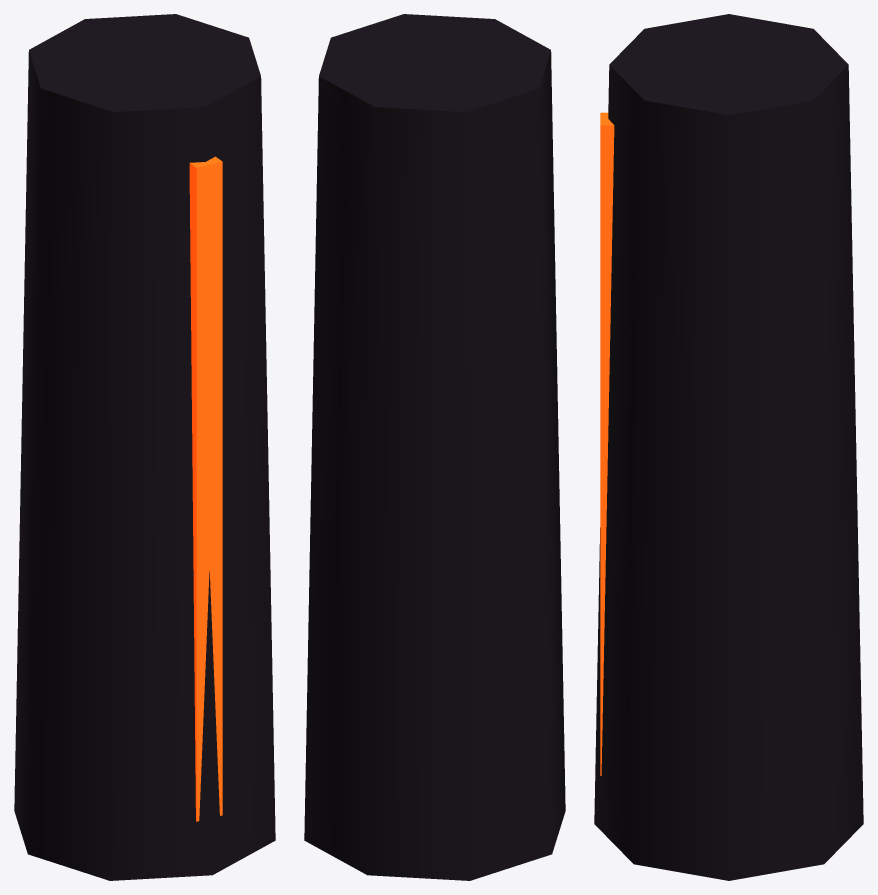
The model's file is obsidian_pillar.glb.
3 renders of one model, left to right at view 1: azimuth 30°, elevation 25°; view 2: azimuth 150°, elevation 25°; view 3: azimuth 270°, elevation 25°, orthographic.
Size of the model in its own units: 0.9 by 2.8 by 0.9.
